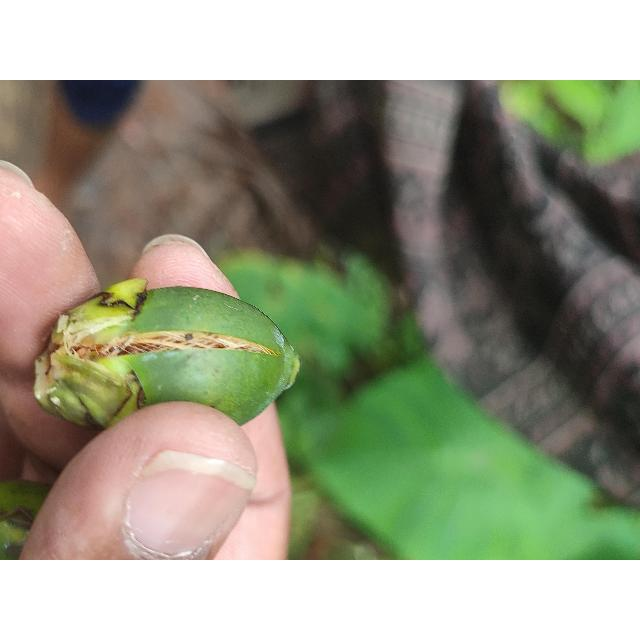damaged: (32, 277, 301, 432)
